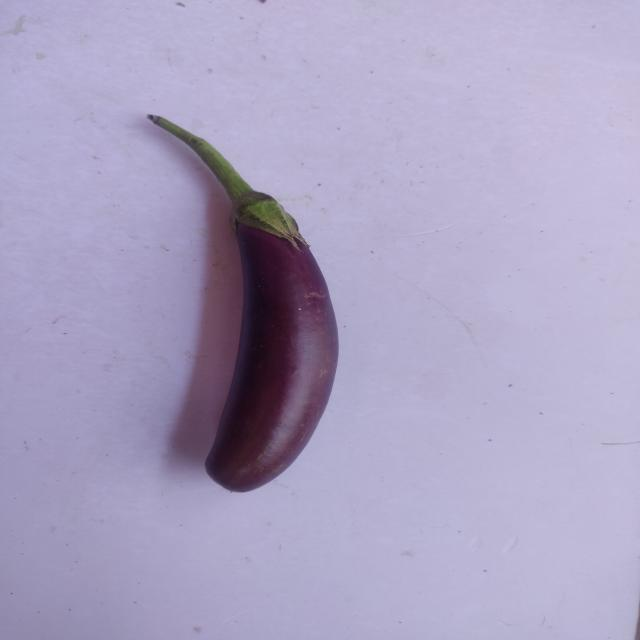Brinjal: (126, 103, 356, 510)
